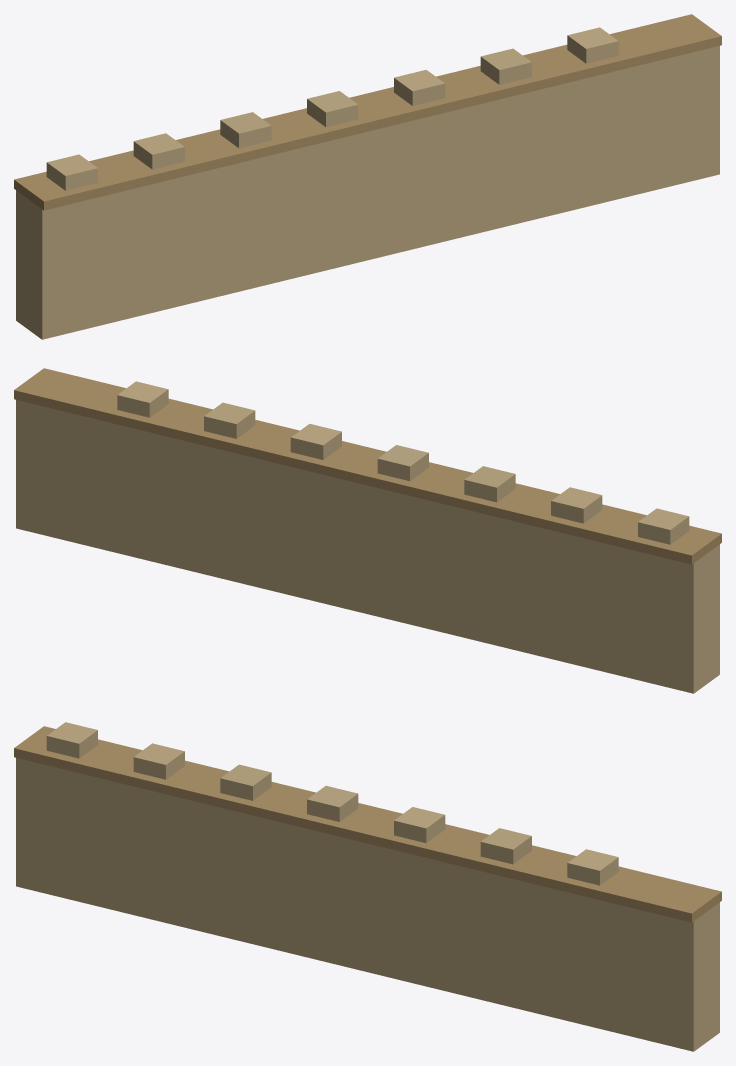
Rendered from fennec_wall_broken.glb.
The picture shows the model from 3 angles, top to bottom: view 1: azimuth 30°, elevation 25°; view 2: azimuth 150°, elevation 25°; view 3: azimuth 330°, elevation 25°; orthographic projection.
Visible parts, largest first — view 1: fennec_wall_piece1, fennec_wall_piece2, fennec_wall_piece6, fennec_wall_piece3, fennec_wall_piece12, fennec_wall_piece8, fennec_wall_piece7, fennec_wall_piece4, fennec_wall_piece10, fennec_wall_piece9, fennec_wall_piece13, fennec_wall_piece11 (+1 smaller); view 2: fennec_wall_piece1, fennec_wall_piece3, fennec_wall_piece13, fennec_wall_piece7, fennec_wall_piece9, fennec_wall_piece10, fennec_wall_piece4, fennec_wall_piece11, fennec_wall_piece0, fennec_wall_piece12, fennec_wall_piece5, fennec_wall_piece2 (+2 smaller); view 3: fennec_wall_piece1, fennec_wall_piece2, fennec_wall_piece6, fennec_wall_piece3, fennec_wall_piece12, fennec_wall_piece7, fennec_wall_piece8, fennec_wall_piece4, fennec_wall_piece10, fennec_wall_piece9, fennec_wall_piece13, fennec_wall_piece11 (+1 smaller).
Part boxes in pixels (x1=…): fennec_wall_piece1: x1=14, y1=138, x2=219, y2=339; fennec_wall_piece2: x1=445, y1=27, x2=649, y2=166; fennec_wall_piece6: x1=319, y1=80, x2=444, y2=272; fennec_wall_piece3: x1=147, y1=112, x2=290, y2=296; fennec_wall_piece12: x1=606, y1=14, x2=721, y2=147; fennec_wall_piece8: x1=247, y1=98, x2=343, y2=289; fennec_wall_piece7: x1=558, y1=111, x2=719, y2=204; fennec_wall_piece4: x1=379, y1=69, x2=534, y2=213; fennec_wall_piece10: x1=479, y1=163, x2=594, y2=230; fennec_wall_piece9: x1=388, y1=189, x2=488, y2=255; fennec_wall_piece13: x1=263, y1=77, x2=412, y2=130; fennec_wall_piece11: x1=436, y1=48, x2=550, y2=93; fennec_wall_piece1: x1=555, y1=487, x2=721, y2=693; fennec_wall_piece3: x1=445, y1=466, x2=571, y2=659; fennec_wall_piece13: x1=319, y1=437, x2=460, y2=610; fennec_wall_piece7: x1=16, y1=436, x2=159, y2=548; fennec_wall_piece9: x1=217, y1=506, x2=379, y2=616; fennec_wall_piece10: x1=101, y1=482, x2=234, y2=577; fennec_wall_piece4: x1=234, y1=423, x2=354, y2=544; fennec_wall_piece11: x1=155, y1=411, x2=290, y2=505; fennec_wall_piece0: x1=378, y1=537, x2=488, y2=643; fennec_wall_piece12: x1=14, y1=368, x2=114, y2=451; fennec_wall_piece5: x1=67, y1=412, x2=203, y2=495; fennec_wall_piece2: x1=90, y1=381, x2=299, y2=432; fennec_wall_piece1: x1=14, y1=722, x2=193, y2=929; fennec_wall_piece2: x1=415, y1=837, x2=645, y2=969; fennec_wall_piece6: x1=292, y1=799, x2=419, y2=970; fennec_wall_piece3: x1=165, y1=746, x2=289, y2=936; fennec_wall_piece12: x1=580, y1=873, x2=721, y2=988; fennec_wall_piece7: x1=532, y1=940, x2=719, y2=1051; fennec_wall_piece8: x1=221, y1=792, x2=345, y2=953; fennec_wall_piece4: x1=376, y1=807, x2=507, y2=957; fennec_wall_piece10: x1=452, y1=949, x2=567, y2=1020; fennec_wall_piece9: x1=361, y1=936, x2=462, y2=995; fennec_wall_piece13: x1=275, y1=785, x2=416, y2=825; fennec_wall_piece11: x1=446, y1=827, x2=576, y2=857.
Size of the model in its own units: 6.25 by 1.36 by 0.48.
